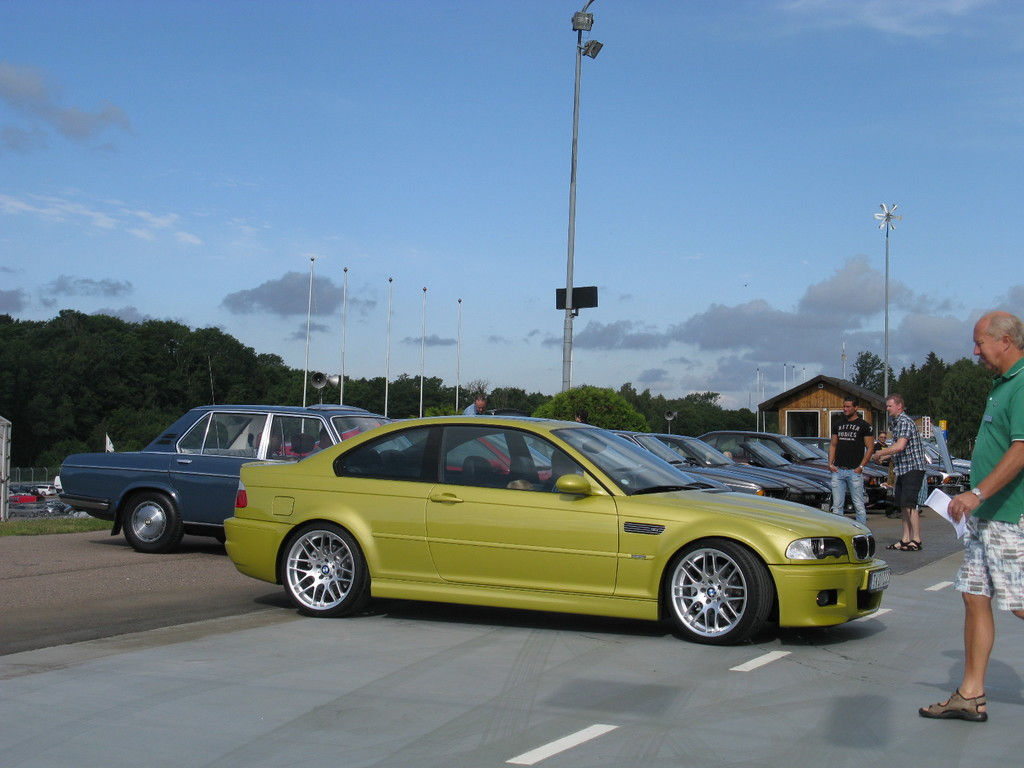Car: (218, 412, 896, 646), (52, 410, 417, 551), (278, 426, 576, 477), (532, 436, 762, 497), (631, 439, 791, 503), (784, 435, 900, 510), (718, 432, 828, 499), (667, 436, 781, 498), (926, 431, 976, 495)
